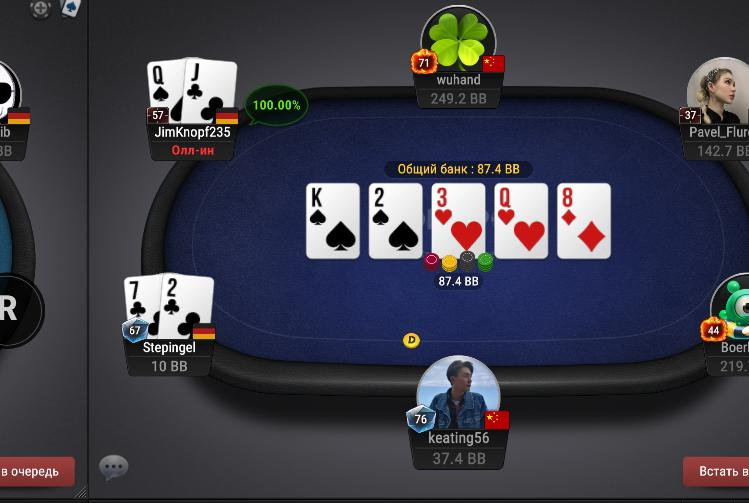2c: (162, 271, 214, 340)
2s: (369, 184, 422, 259)
3h: (432, 184, 485, 256)
7c: (123, 274, 163, 340)
8d: (558, 183, 610, 257)
Jc: (184, 57, 238, 129)
Ks: (307, 183, 359, 258)
Qh: (495, 184, 547, 258)
Qs: (146, 59, 186, 127)
